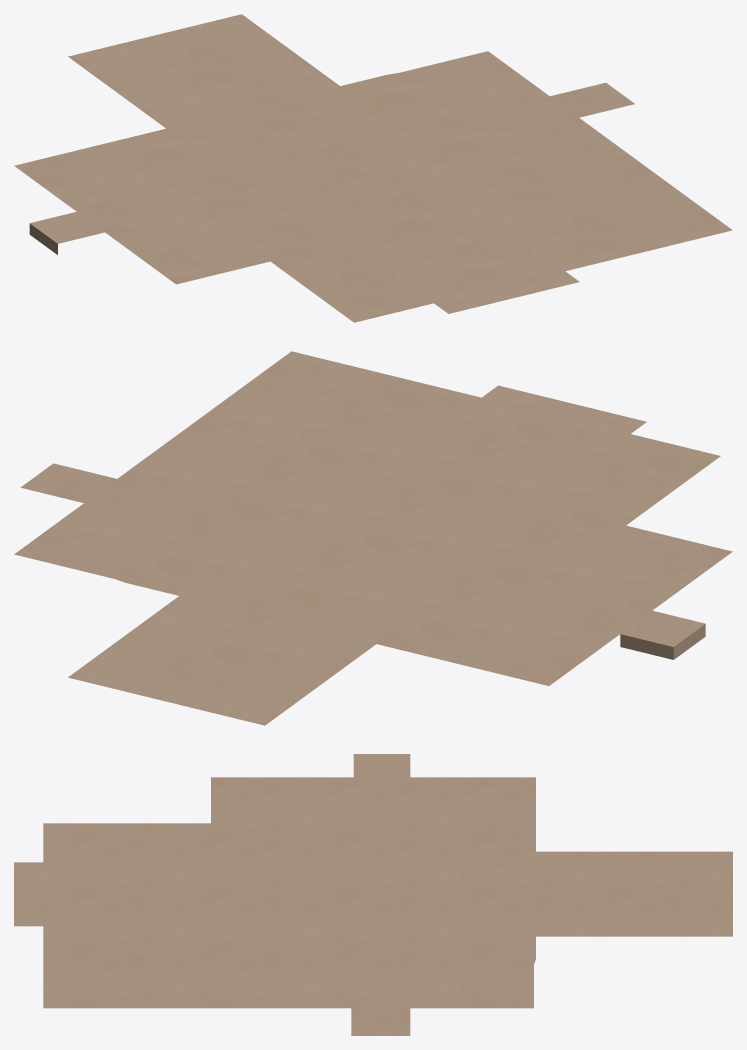
The model's file is MainRoom Floor.fbx.
3 views of the same model, one above another, from view 1: azimuth 30°, elevation 25°; view 2: azimuth 150°, elevation 25°; view 3: azimuth 270°, elevation 25° (orthographic). The views are drawn at different scales.
Visible parts, largest first — view 1: MainRoom Floor; view 2: MainRoom Floor; view 3: MainRoom Floor.
Boxes of the visible parts, x1=… form: MainRoom Floor: x1=14, y1=14, x2=732, y2=322; MainRoom Floor: x1=14, y1=351, x2=732, y2=725; MainRoom Floor: x1=14, y1=754, x2=732, y2=1035.
Size of the model in its own units: 79.5 by 1.5 by 85.75.
